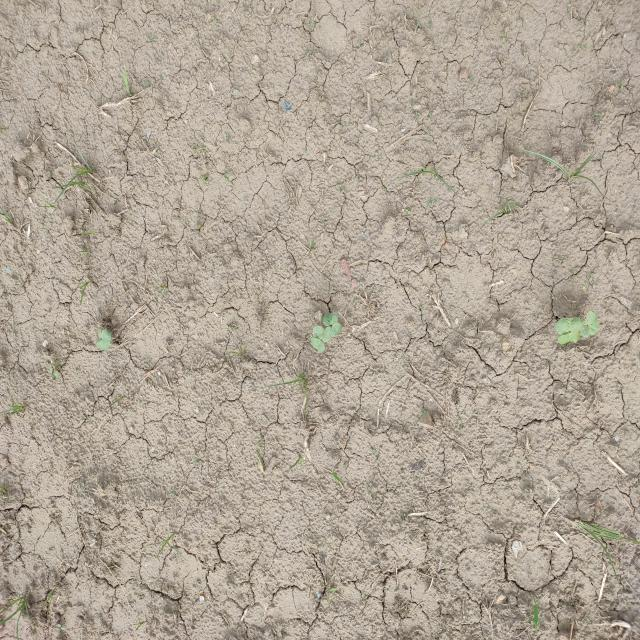seedling: (555, 317, 582, 334), (313, 326, 331, 342), (586, 311, 598, 335), (98, 330, 112, 350), (324, 323, 342, 338), (557, 332, 579, 344), (311, 337, 325, 353), (322, 313, 338, 326), (580, 319, 589, 338), (96, 327, 102, 345)
